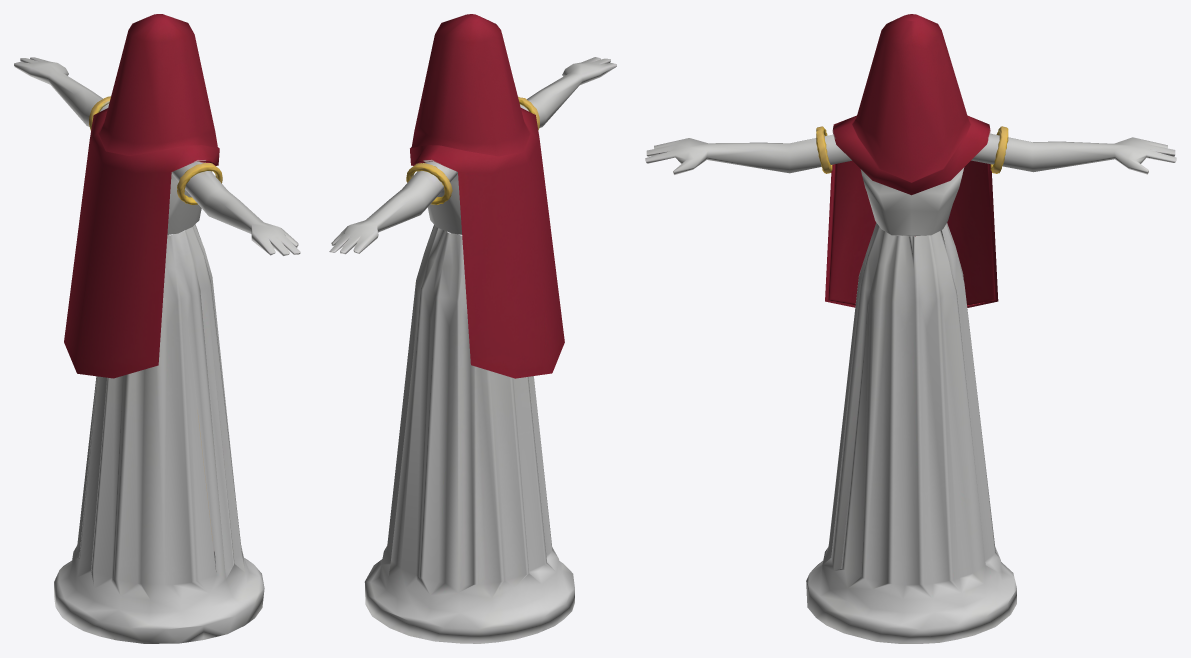
3 views of the same model, side by side, from view 1: azimuth 30°, elevation 25°; view 2: azimuth 150°, elevation 25°; view 3: azimuth 270°, elevation 25° (orthographic).
Parts seen in each view (by area): view 1: tripo_node_39fb2f33-80e8-4965-a245-7f7b94695137; view 2: tripo_node_39fb2f33-80e8-4965-a245-7f7b94695137; view 3: tripo_node_39fb2f33-80e8-4965-a245-7f7b94695137.
Boxes of the visible parts, box(x1,y1,x2,y2) form: tripo_node_39fb2f33-80e8-4965-a245-7f7b94695137: box(14, 14, 300, 643); tripo_node_39fb2f33-80e8-4965-a245-7f7b94695137: box(329, 14, 616, 643); tripo_node_39fb2f33-80e8-4965-a245-7f7b94695137: box(645, 14, 1176, 643).
Size of the model in its own units: 0.3301 by 0.998 by 0.8262.
1 material, 1 textured.
